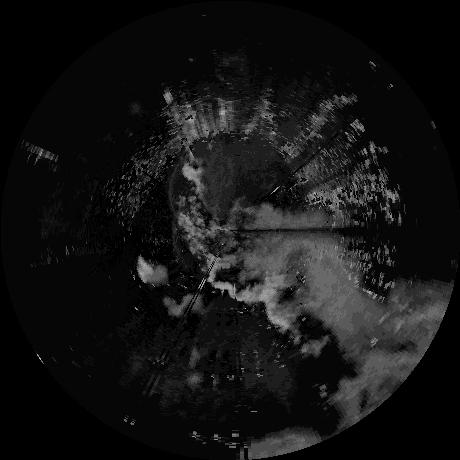frontgust: (168, 154, 184, 220), (170, 223, 190, 268)
